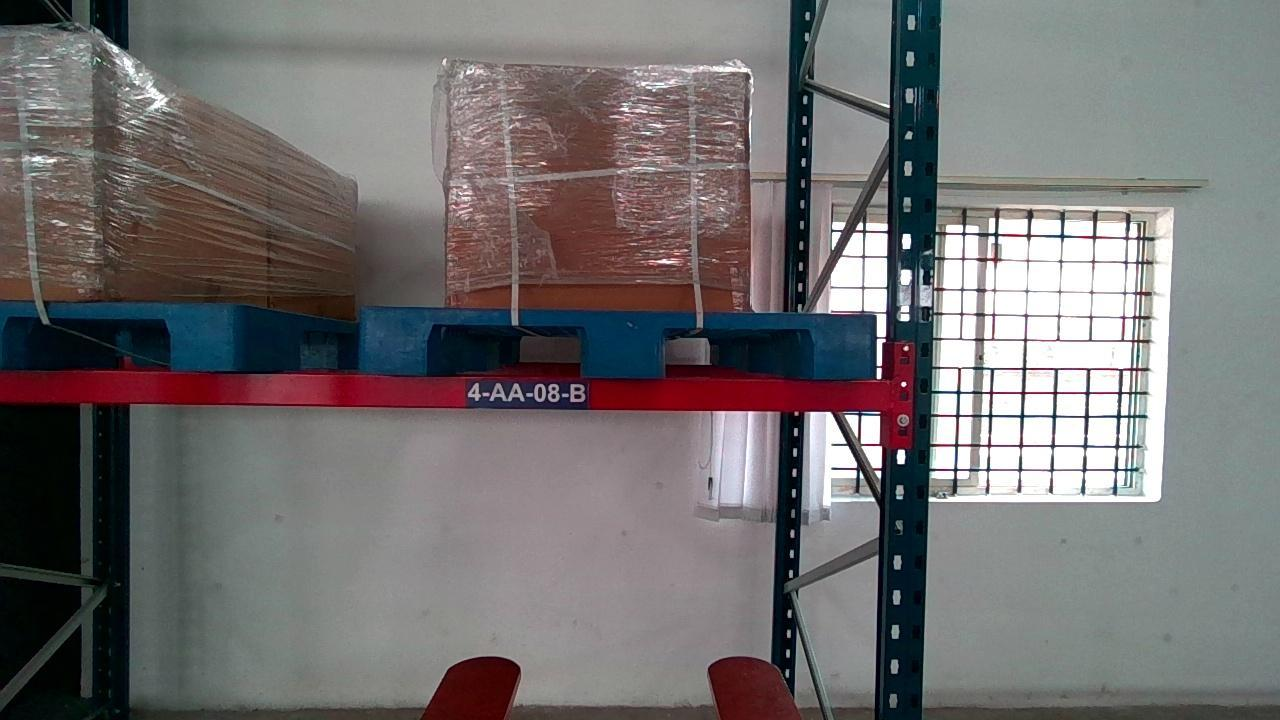h_rack: (0, 369, 892, 411)
small_pallet: (360, 305, 874, 378)
